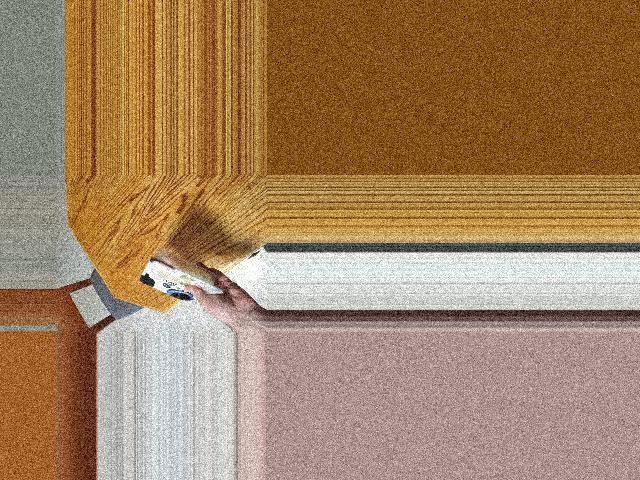cheese: (143, 250, 210, 313)
